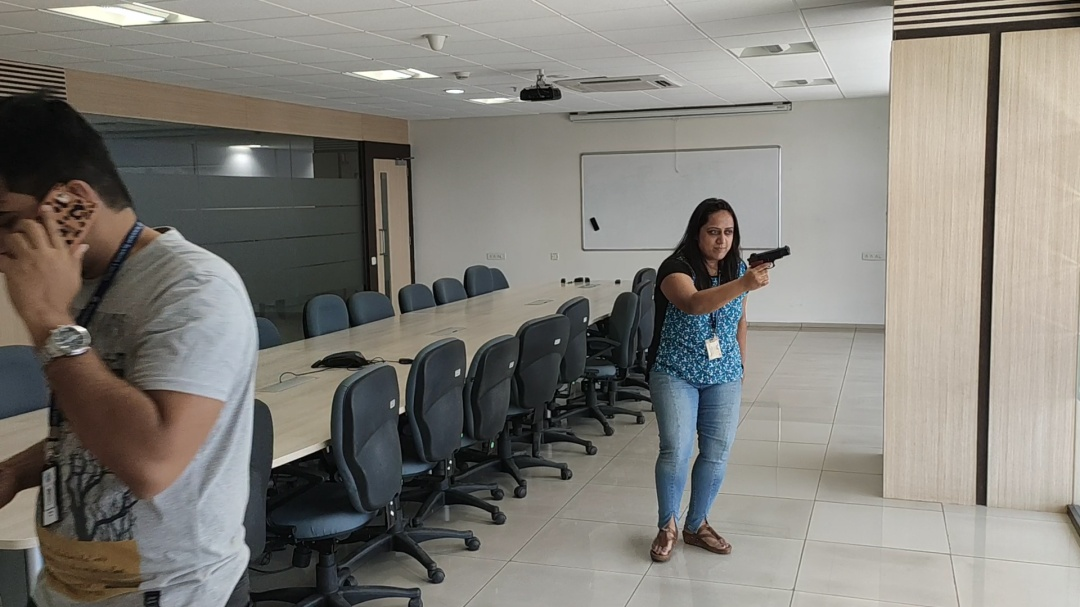gun: (747, 244, 792, 268)
